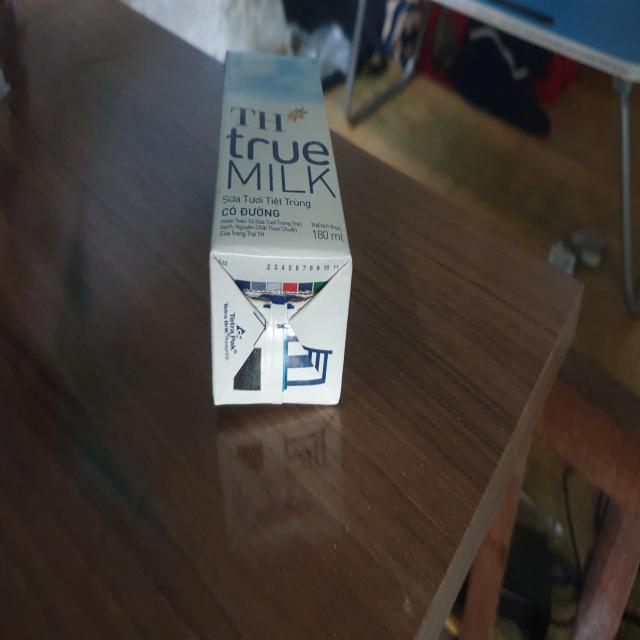TH: (211, 46, 353, 406)
